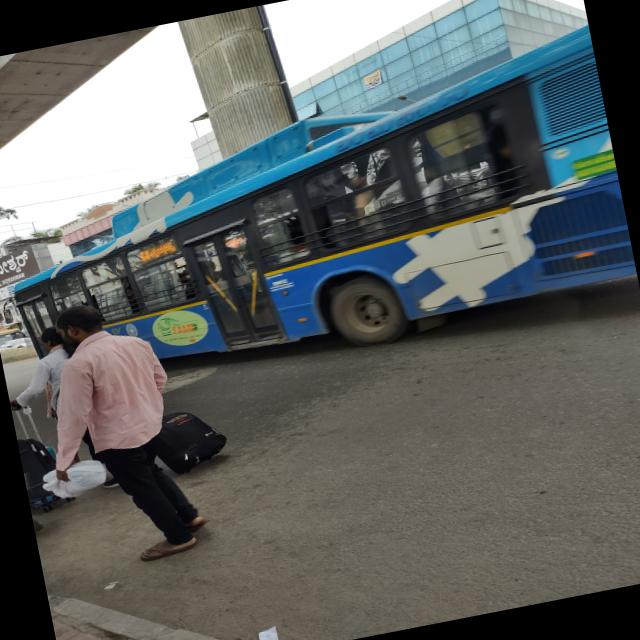bus: (0, 17, 640, 410)
display: (136, 239, 179, 265)
dnumber: (139, 248, 152, 262)
